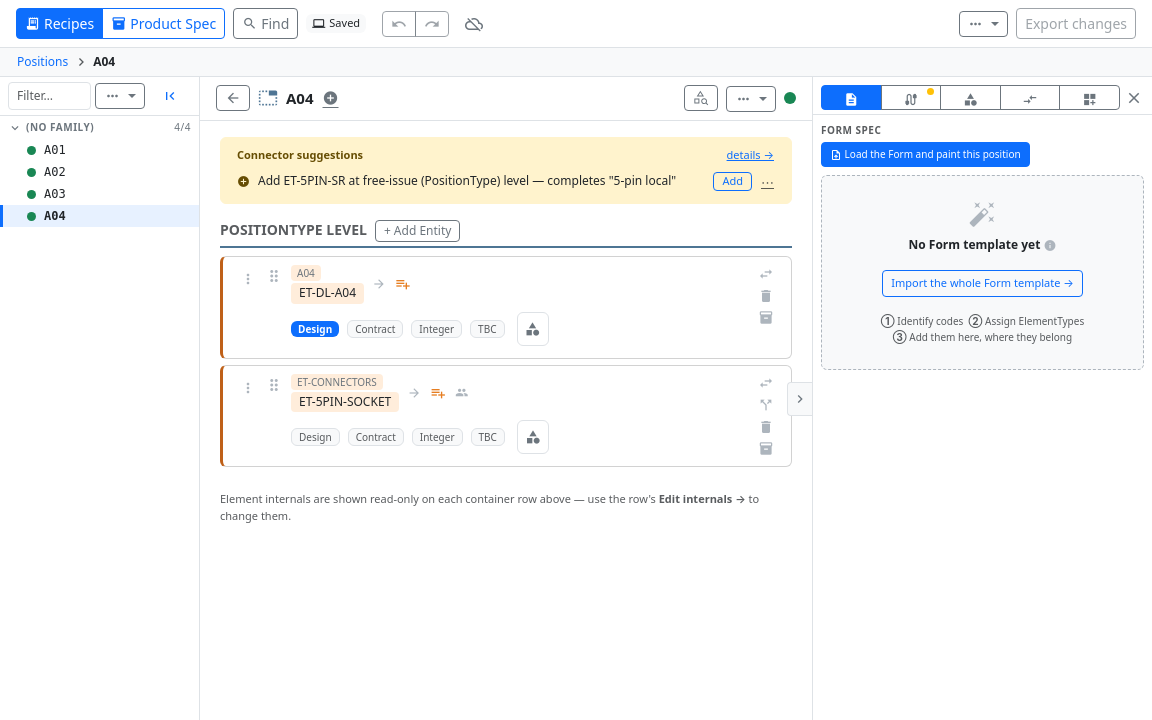
Test: the drawer's Connectors tab, for one position › the drawer: a Connectors tab with a dot when the open position has gaps; the banner's details opens it
Check: the element with test id "connector-gap-dot" is shown, box [927, 88, 934, 95]
Click the button with test id "connector-details": (750, 155) [726, 146, 775, 164]
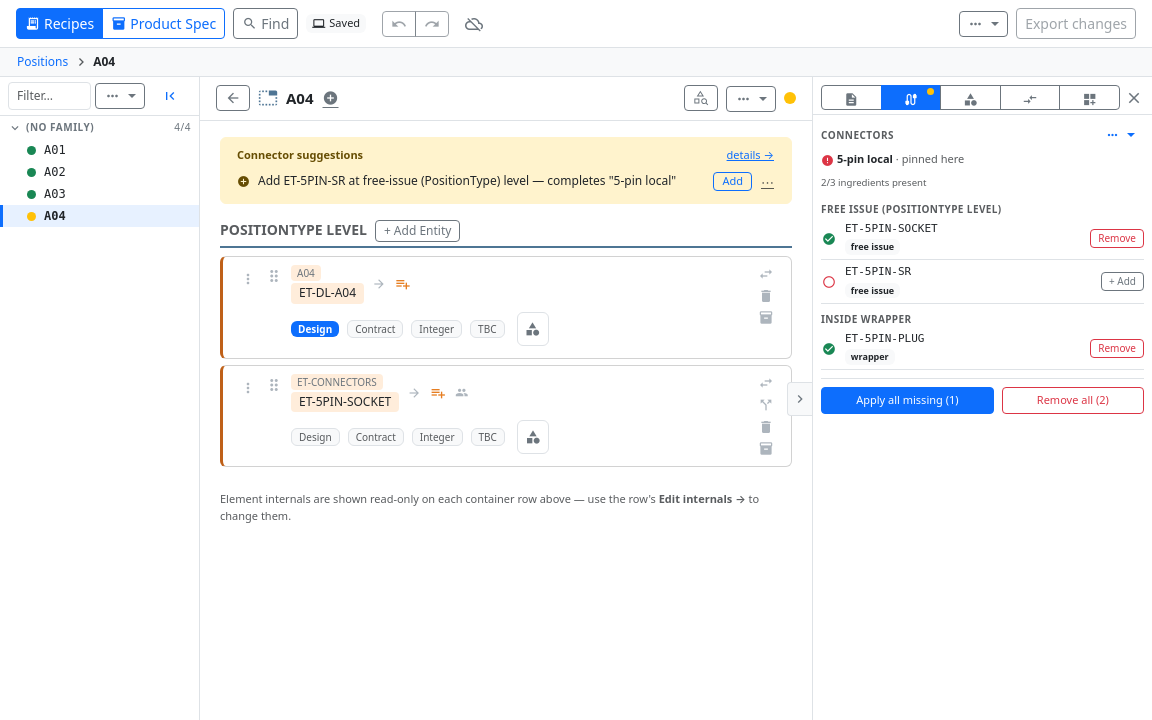
Check: the element with test id "connectors-pane" is shown, box [813, 115, 1151, 422]
